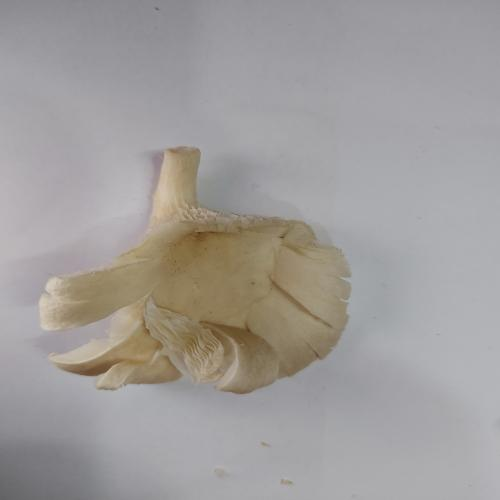Oyster Mushroom: (37, 145, 353, 395)
